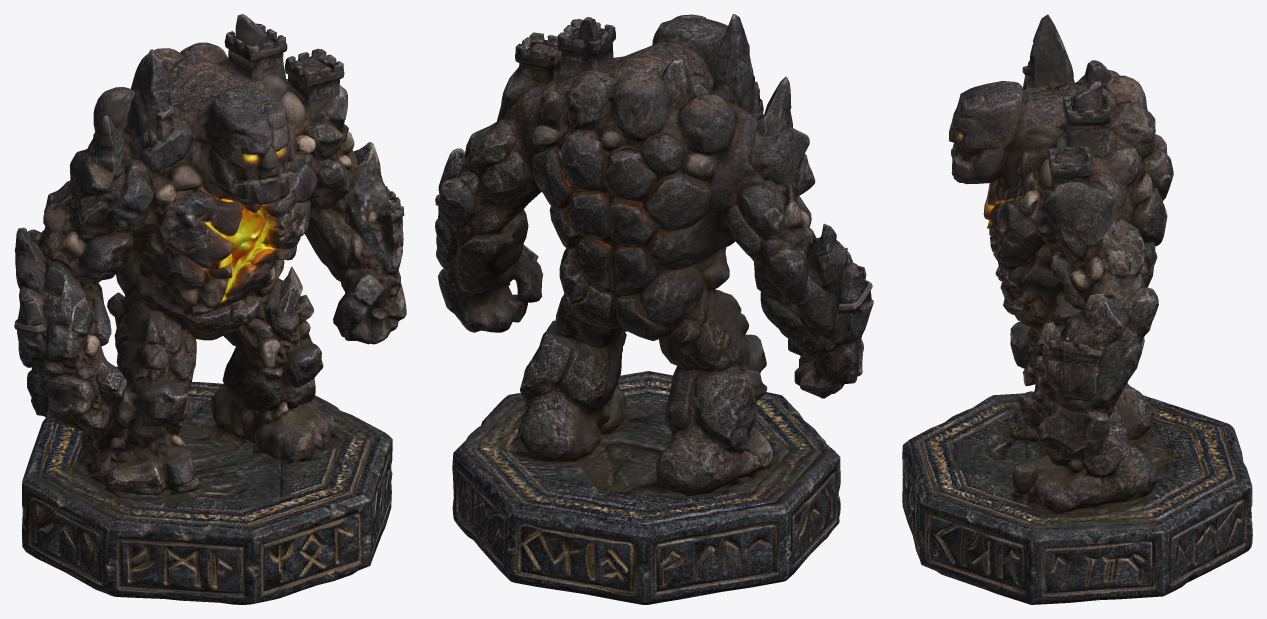
The model's file is coracao_preto.glb.
The picture shows the model from 3 angles, left to right: view 1: azimuth 30°, elevation 25°; view 2: azimuth 150°, elevation 25°; view 3: azimuth 270°, elevation 25°; orthographic projection. The views are drawn at different scales.
Parts seen in each view (by area): view 1: tripo_node_b4cb7b50-91ad-4c55-b8e1-12b47bd5a07f; view 2: tripo_node_b4cb7b50-91ad-4c55-b8e1-12b47bd5a07f; view 3: tripo_node_b4cb7b50-91ad-4c55-b8e1-12b47bd5a07f.
Part boxes in pixels (box(x1,y1,x2,y2)): tripo_node_b4cb7b50-91ad-4c55-b8e1-12b47bd5a07f: box(14, 14, 406, 604); tripo_node_b4cb7b50-91ad-4c55-b8e1-12b47bd5a07f: box(435, 14, 873, 604); tripo_node_b4cb7b50-91ad-4c55-b8e1-12b47bd5a07f: box(902, 14, 1252, 604).
Size of the model in its own units: 0.7944 by 0.9786 by 0.6433.
Materials: 1 (1 with a texture image).
